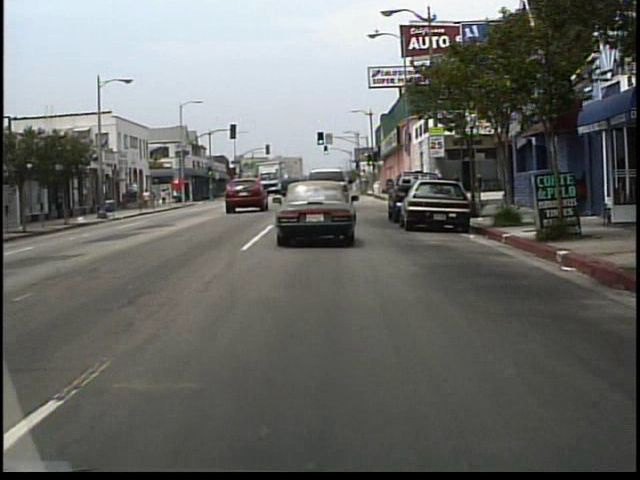person: (143, 189, 152, 211), (161, 188, 169, 207), (152, 190, 157, 209)
